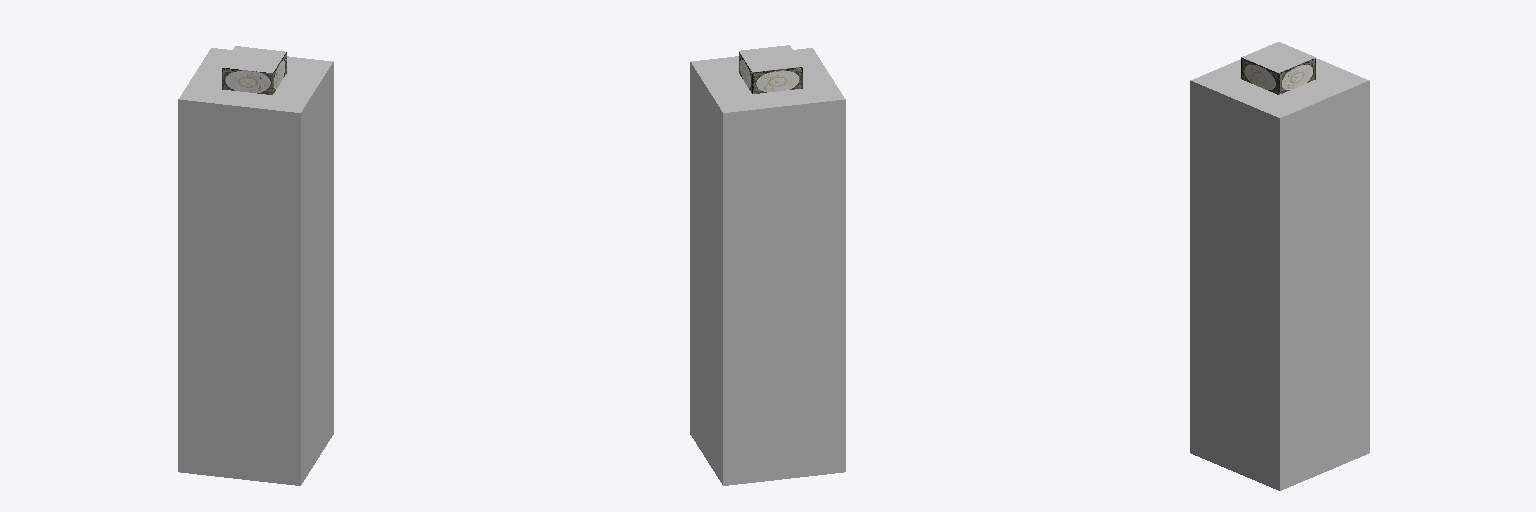
The picture shows the model from 3 angles: view 1: azimuth 30°, elevation 25°; view 2: azimuth 150°, elevation 25°; view 3: azimuth 270°, elevation 25°; orthographic projection.
Parts seen in each view (by area): view 1: Cube.002, Cube.001; view 2: Cube.002, Cube.001; view 3: Cube.002, Cube.001.
Boxes of the visible parts, x1=… form: Cube.002: x1=178, y1=48, x2=333, y2=485; Cube.001: x1=222, y1=46, x2=286, y2=94; Cube.002: x1=690, y1=48, x2=845, y2=485; Cube.001: x1=739, y1=45, x2=802, y2=93; Cube.002: x1=1190, y1=58, x2=1369, y2=490; Cube.001: x1=1241, y1=42, x2=1315, y2=94.
Size of the model in its own units: 67 by 163 by 67.
3 materials, 1 textured.